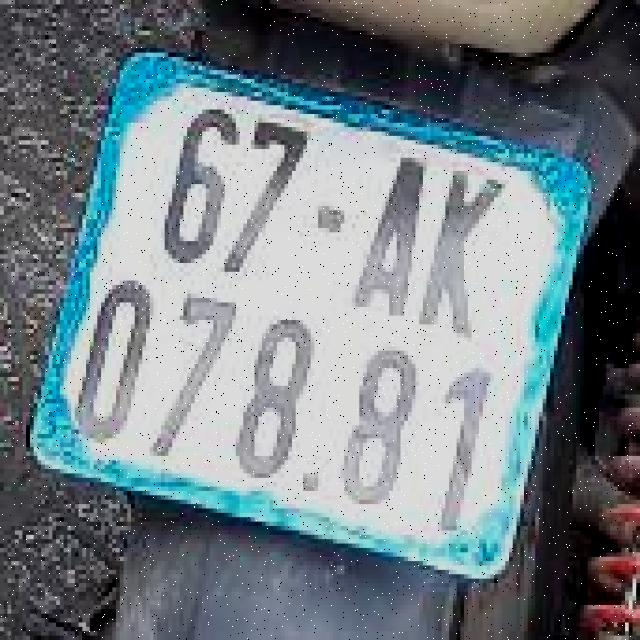0: (69, 270, 152, 445)
1: (430, 353, 498, 546)
6: (155, 96, 234, 268)
7: (148, 278, 234, 476), (226, 114, 309, 281)
8: (331, 337, 421, 513), (234, 302, 320, 478)
A: (350, 149, 425, 320)
K: (423, 162, 509, 342)
